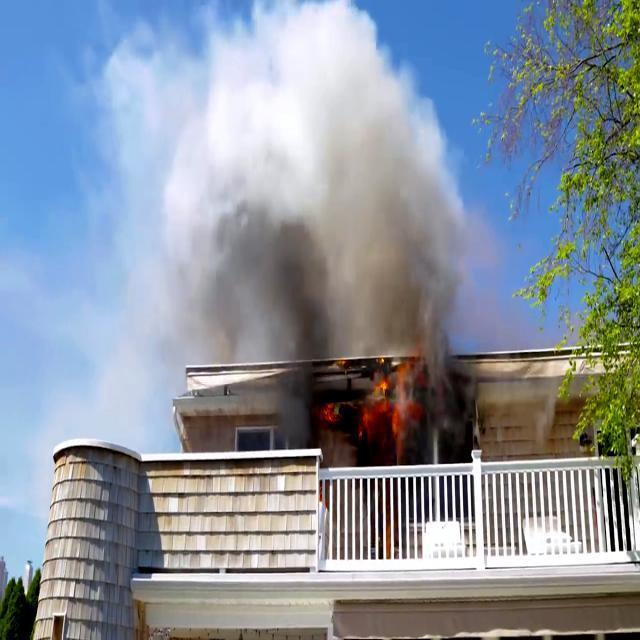Fire: (354, 372, 416, 448), (321, 396, 350, 438)
Smoke: (107, 0, 477, 370), (239, 352, 329, 465)
